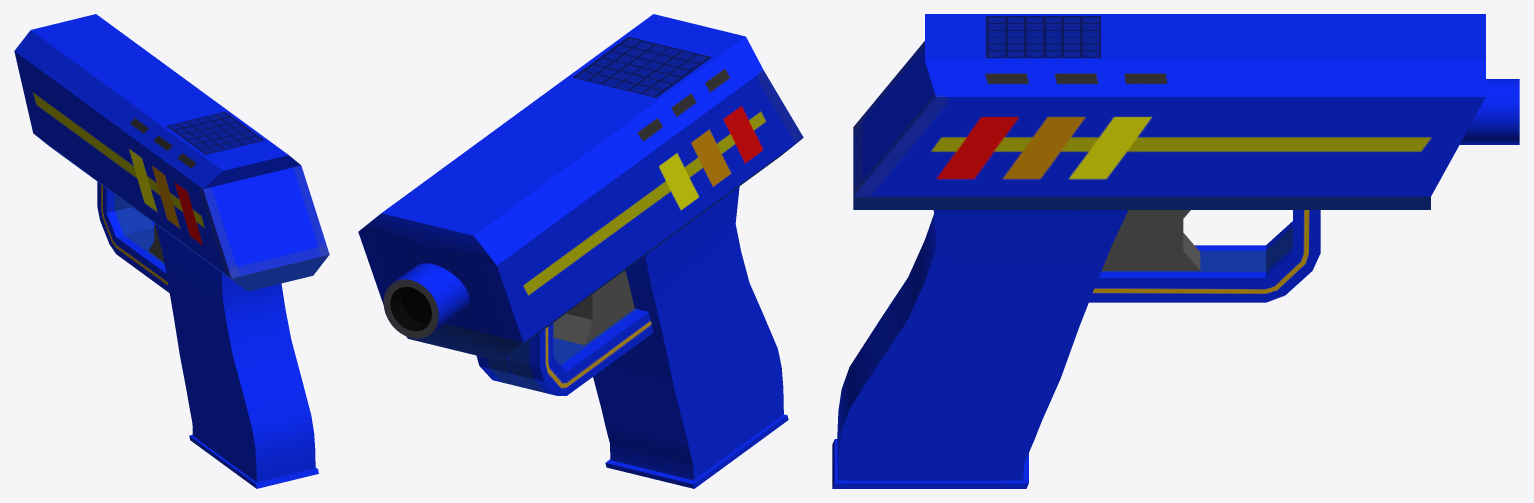
Rendered from Pistol.fbx.
3 views of the same model, side by side, from view 1: azimuth 30°, elevation 25°; view 2: azimuth 150°, elevation 25°; view 3: azimuth 270°, elevation 25° (orthographic). The views are drawn at different scales.
Parts seen in each view (by area): view 1: Pistol, Magazine; view 2: Pistol, Trigger, Magazine; view 3: Pistol, Trigger, Magazine.
Boxes of the visible parts, box(x1,y1,x2,y2) form: Pistol: box(14, 14, 329, 482); Magazine: box(189, 435, 318, 488); Pistol: box(358, 14, 803, 480); Trigger: box(553, 270, 634, 344); Magazine: box(605, 414, 788, 488); Pistol: box(837, 14, 1519, 480); Trigger: box(1101, 210, 1200, 270); Magazine: box(832, 439, 1028, 488).
Size of the model in its own units: 60 by 172 by 250.
